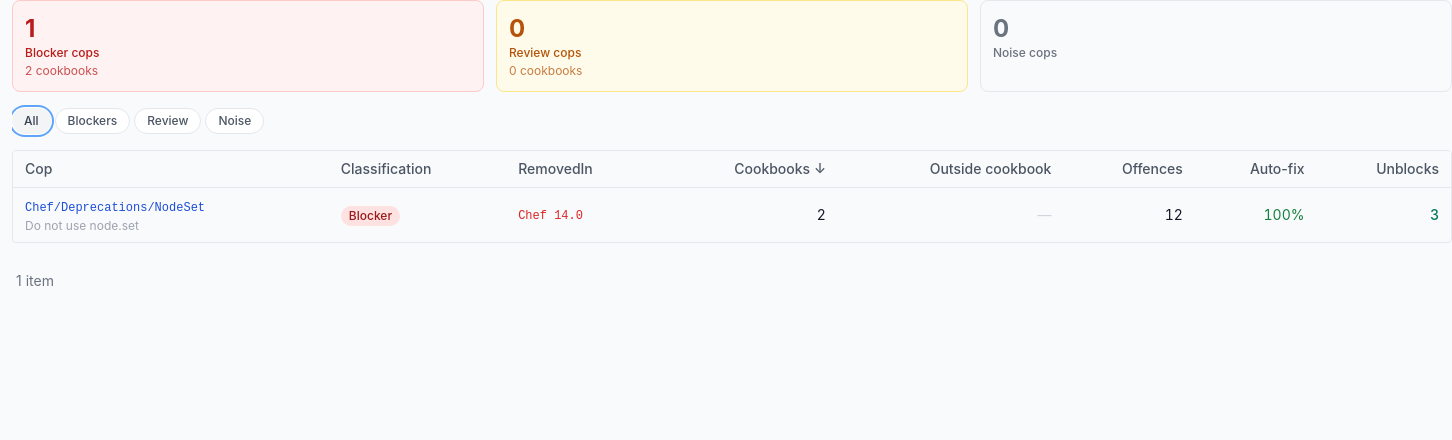
Test: CopAnalysisTab › resets the open drill-down when the classification filter changes
What coordinates should you click on to do the following:
click the button "Chef/Deprecations/NodeSet"
I would click on:
 (115, 208)
Its box is [25,200,205,216].
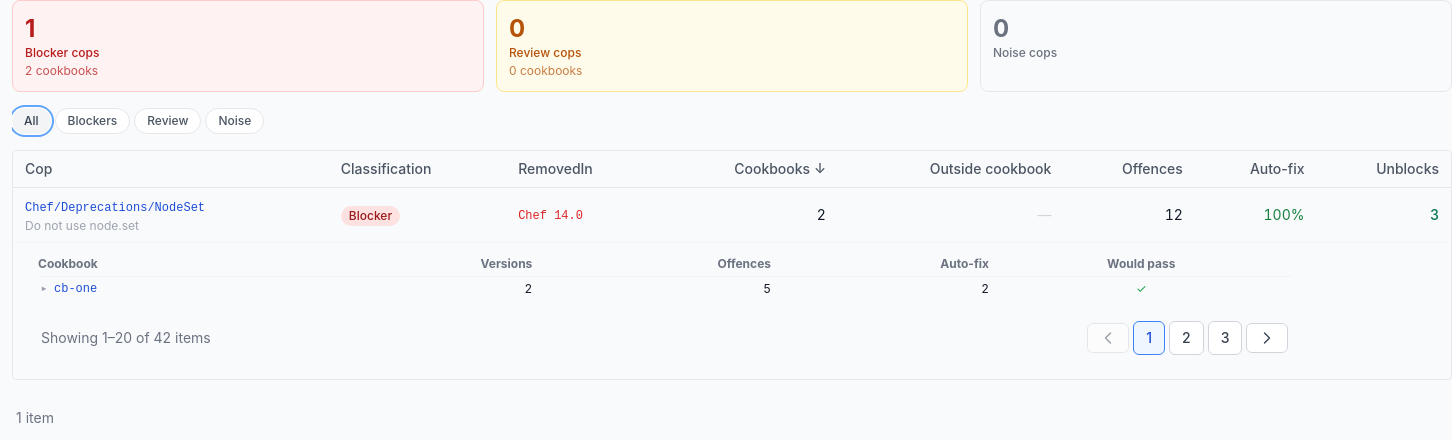
expect the link "cb-one" is shown: met, box [54,281,97,297]
# Changing the classification filter must collapse the stale panel.
What coordinates should you click on to do the following:
click the button "Blockers"
I would click on:
 (92, 121)
Its box is [55,108,130,134].
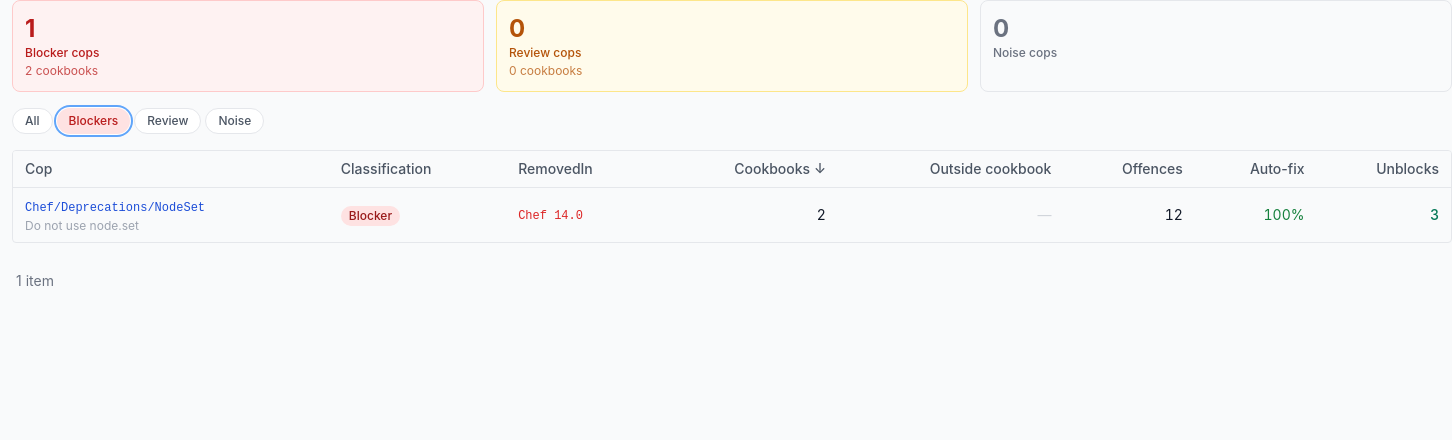
expect the link "cb-one" is gone: met
